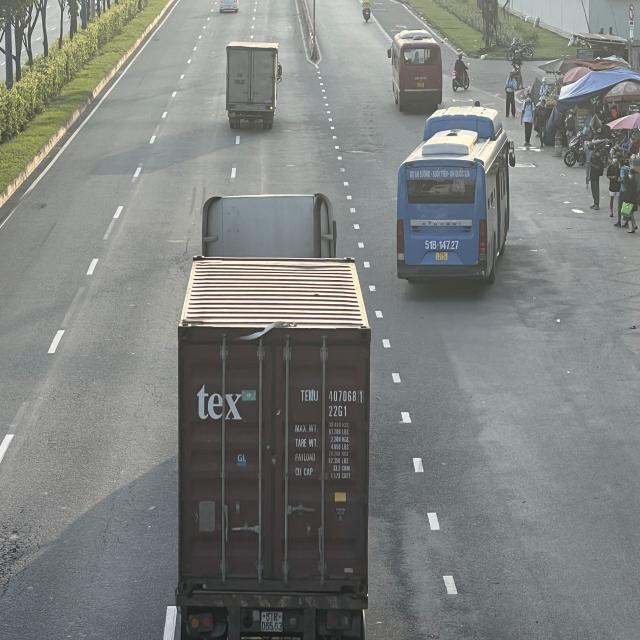coach: (395, 108, 511, 290), (390, 31, 445, 110)
container: (176, 191, 372, 638)
truck: (228, 41, 284, 131)
